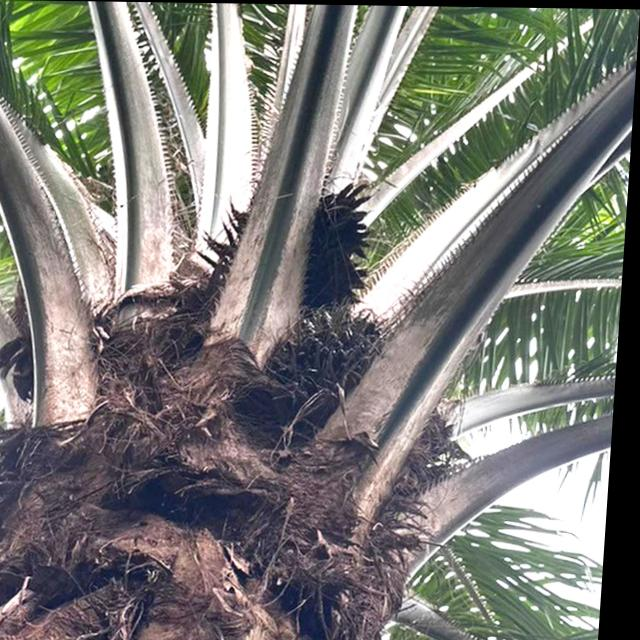unripe: (264, 301, 397, 432)
